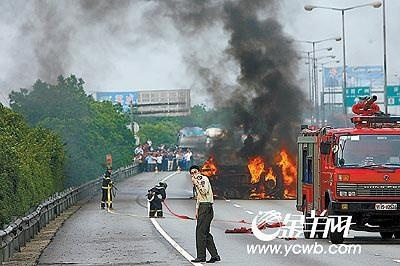fire: (248, 151, 297, 199), (200, 156, 218, 174)
